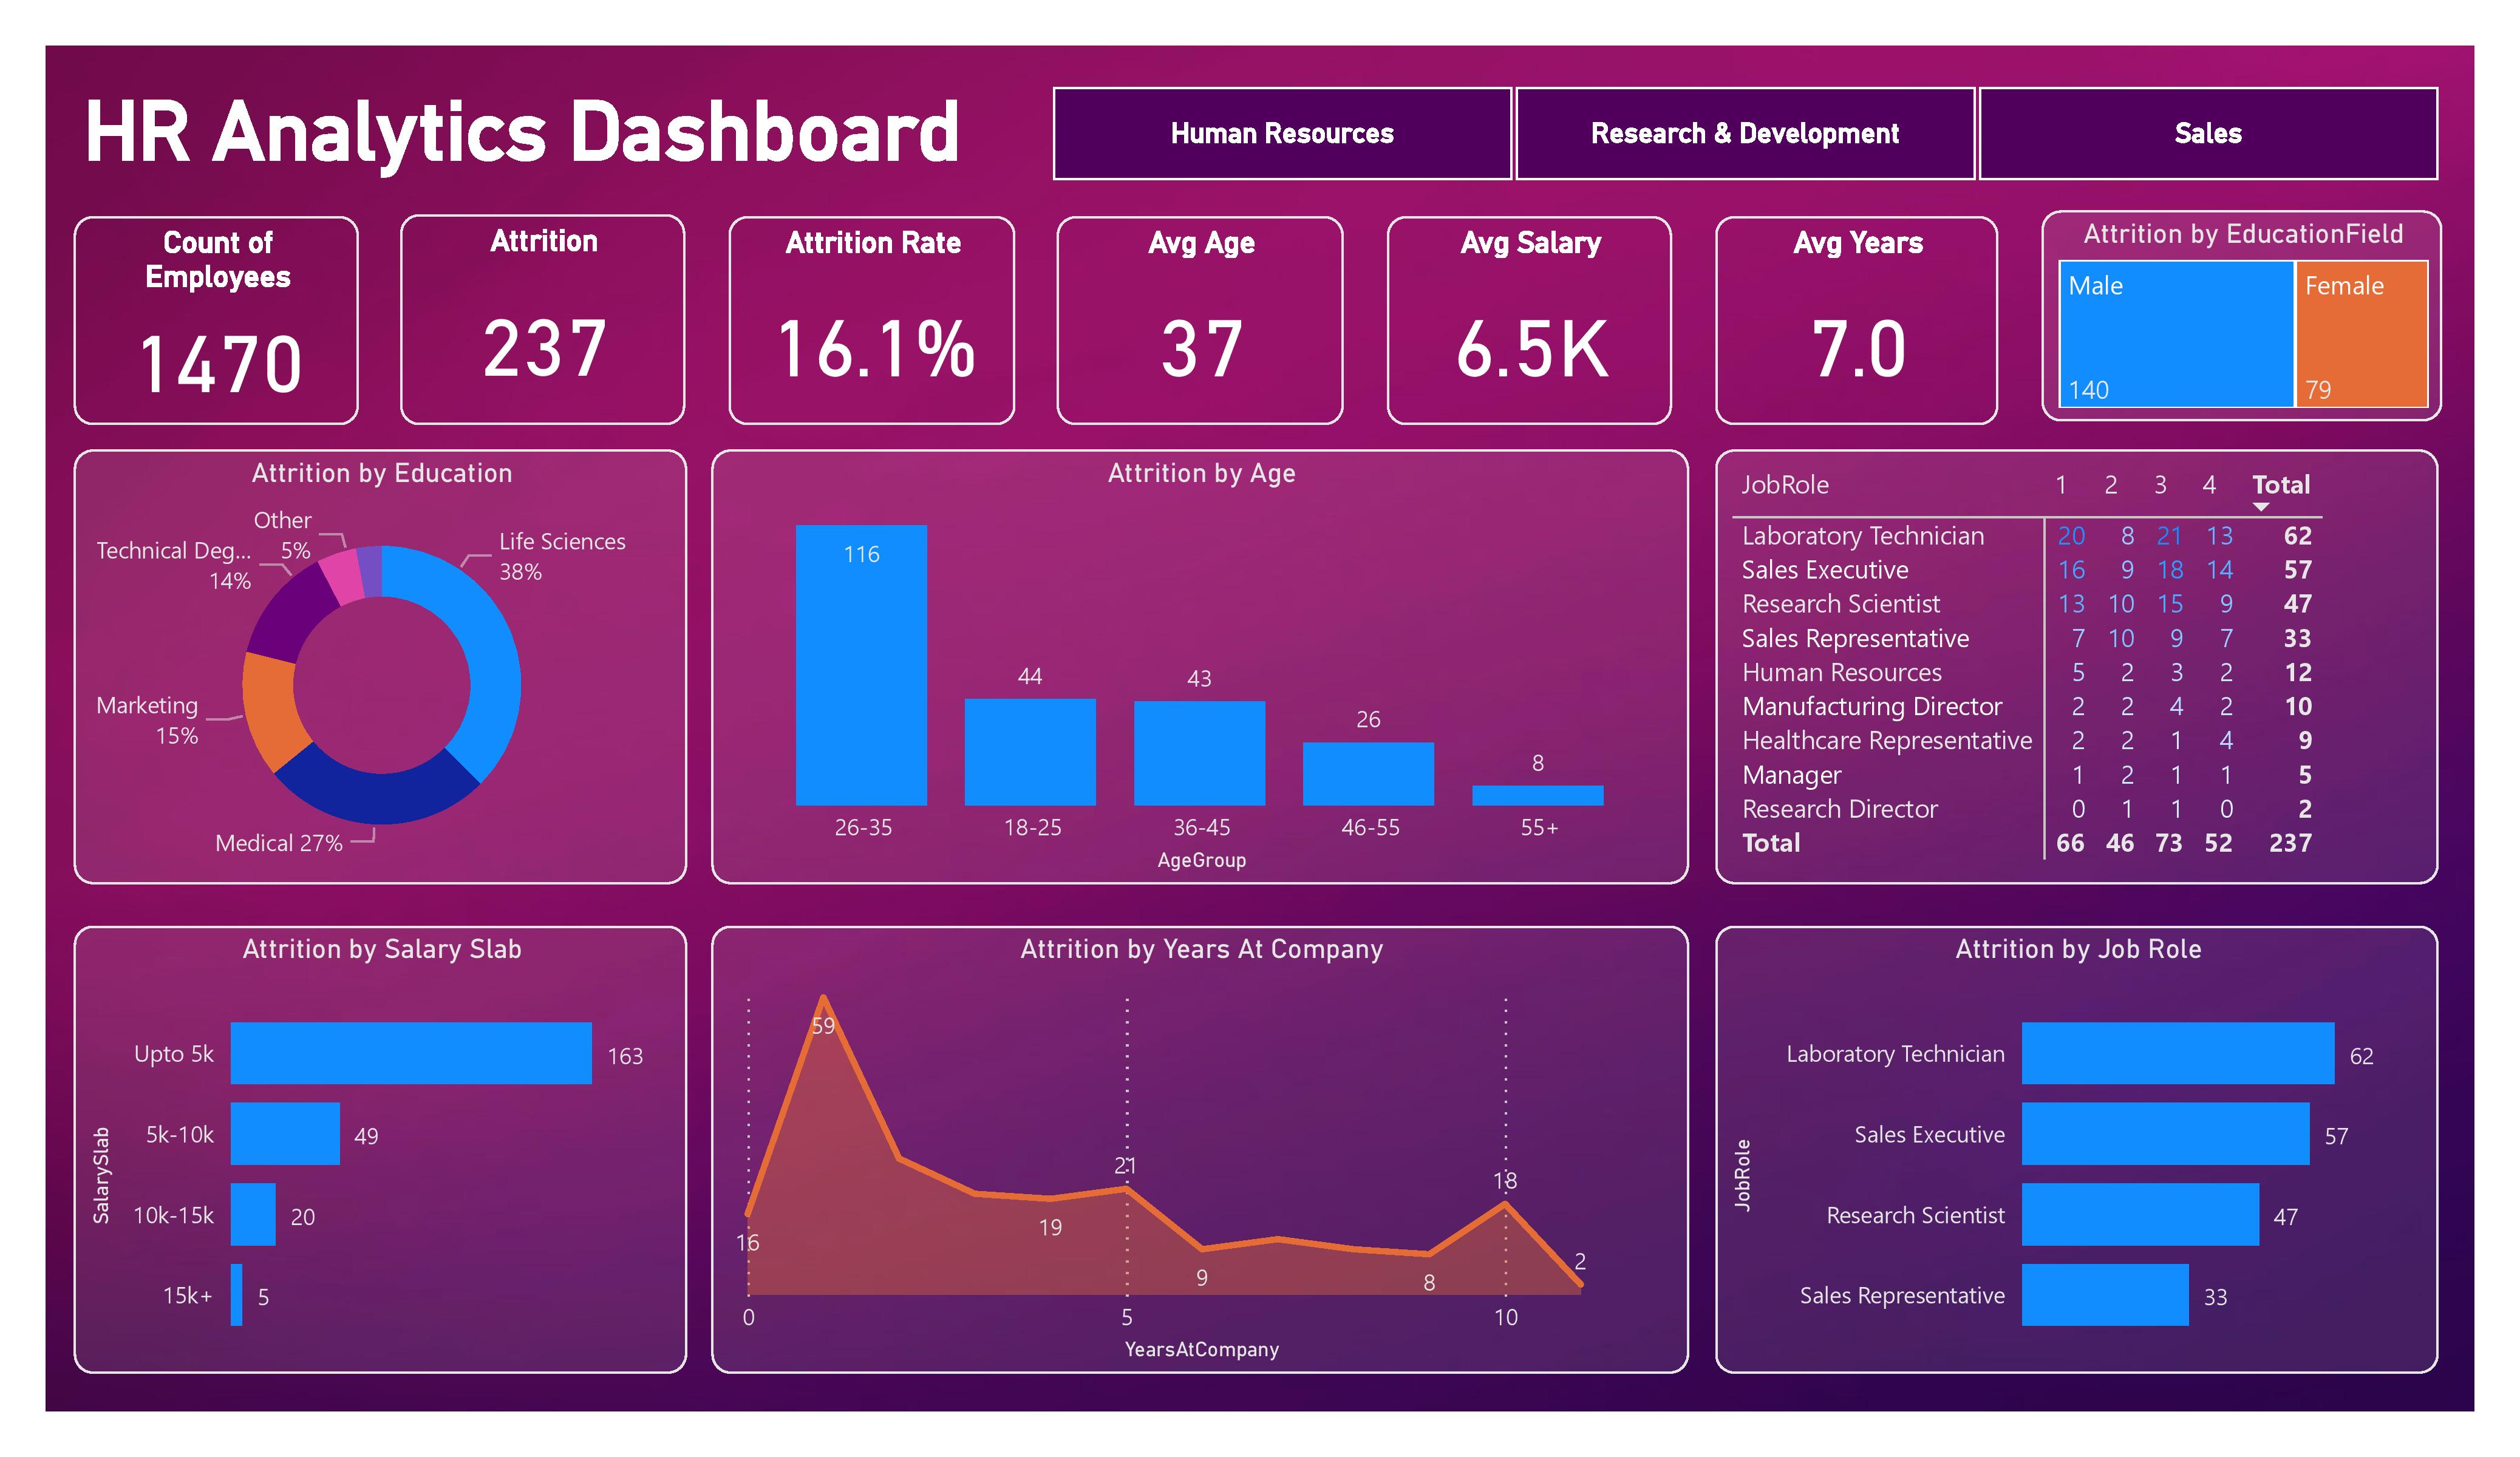

Layout of this report page (visuals, bound fields, positions):
{"tool":"powerbi","page":{"name":"Page 1","canvas":[1280,720],"ordinal":0},"visuals":[{"type":"card","title":"Count of Employees","fields":{"Values":["Count(HR_Analytics.EmpID)"]},"box":[15,90,149.6,109.8],"z":0},{"type":"card","title":"Attrition","fields":{"Values":["Sum(HR_Analytics.AttritionCount)"]},"box":[187.4,88.6,149.6,111.1],"z":1000},{"type":"card","title":"Attrition Rate","fields":{"Values":["HR_Analytics.AttritionRate"]},"box":[359.7,90,150.9,109.8],"z":2000},{"type":"card","title":"Avg Age","fields":{"Values":["Avg(HR_Analytics.Age)"]},"box":[533.5,90,150.9,109.8],"z":3000},{"type":"card","title":"Avg Salary","fields":{"Values":["Avg(HR_Analytics.MonthlyIncome)"]},"box":[707.2,90,149.6,109.8],"z":4000},{"type":"card","title":"Avg Years","fields":{"Values":["Avg(HR_Analytics.YearsAtCompany)"]},"box":[879.6,90,149.6,109.8],"z":5000},{"type":"donutChart","title":"Attrition by EducationField","fields":{"Category":["HR_Analytics.EducationField"],"Y":["Sum(HR_Analytics.AttritionCount)"]},"box":[15.1,212.7,322.5,229.2],"z":6000},{"type":"columnChart","title":"Attrition by EducationField","fields":{"Category":["HR_Analytics.AgeGroup"],"Y":["Sum(HR_Analytics.AttritionCount)"]},"box":[354,212.7,536.5,229.2],"z":7000},{"type":"pivotTable","fields":{"Rows":["HR_Analytics.JobRole"],"Columns":["HR_Analytics.JobSatisfaction"],"Values":["Sum(HR_Analytics.AttritionCount)"]},"box":[907,212.7,354,229.2],"z":8000},{"type":"barChart","title":"Attrition by EducationField","fields":{"Category":["HR_Analytics.SalarySlab"],"Y":["Sum(HR_Analytics.AttritionCount)"]},"box":[15.1,463.8,322.5,236],"z":9000},{"type":"barChart","title":"Attrition by EducationField","fields":{"Category":["HR_Analytics.JobRole"],"Y":["Sum(HR_Analytics.AttritionCount)"]},"box":[907,463.8,354,236],"z":10000},{"type":"areaChart","title":"Attrition by EducationField","fields":{"Category":["HR_Analytics.YearsAtCompany"],"Y":["Sum(HR_Analytics.AttritionCount)"]},"box":[354,463.8,536.5,236],"z":11000},{"type":"treemap","title":"Attrition by EducationField","fields":{"Group":["HR_Analytics.Gender"],"Values":["Sum(HR_Analytics.AttritionCount)"]},"box":[1051.9,87.3,211.3,111.1],"z":12000},{"type":"slicer","fields":{"Values":["HR_Analytics.Department"]},"box":[510.5,15.1,769.8,63.1],"z":13000},{"type":"textbox","box":[15.1,15.1,495.4,63.1],"z":14000}]}

Visuals, with their boxes in screenshot pixels (x1, y1, x2, y2):
"Count of Employees" card: 49:194:339:407
"Attrition" card: 384:192:674:407
"Attrition Rate" card: 718:194:1011:407
"Avg Age" card: 1055:194:1349:407
"Avg Salary" card: 1393:194:1683:407
"Avg Years" card: 1728:194:2018:407
"Attrition by EducationField" donutChart: 49:433:675:877
"Attrition by EducationField" columnChart: 707:433:1749:877
pivotTable - HR_Analytics.JobRole x HR_Analytics.JobSatisfaction: 1780:433:2468:877
"Attrition by EducationField" barChart: 49:920:675:1378
"Attrition by EducationField" barChart: 1780:920:2468:1378
"Attrition by EducationField" areaChart: 707:920:1749:1378
"Attrition by EducationField" treemap: 2062:189:2472:405
slicer - HR_Analytics.Department: 1011:49:2505:171
textbox: 49:49:1011:171
